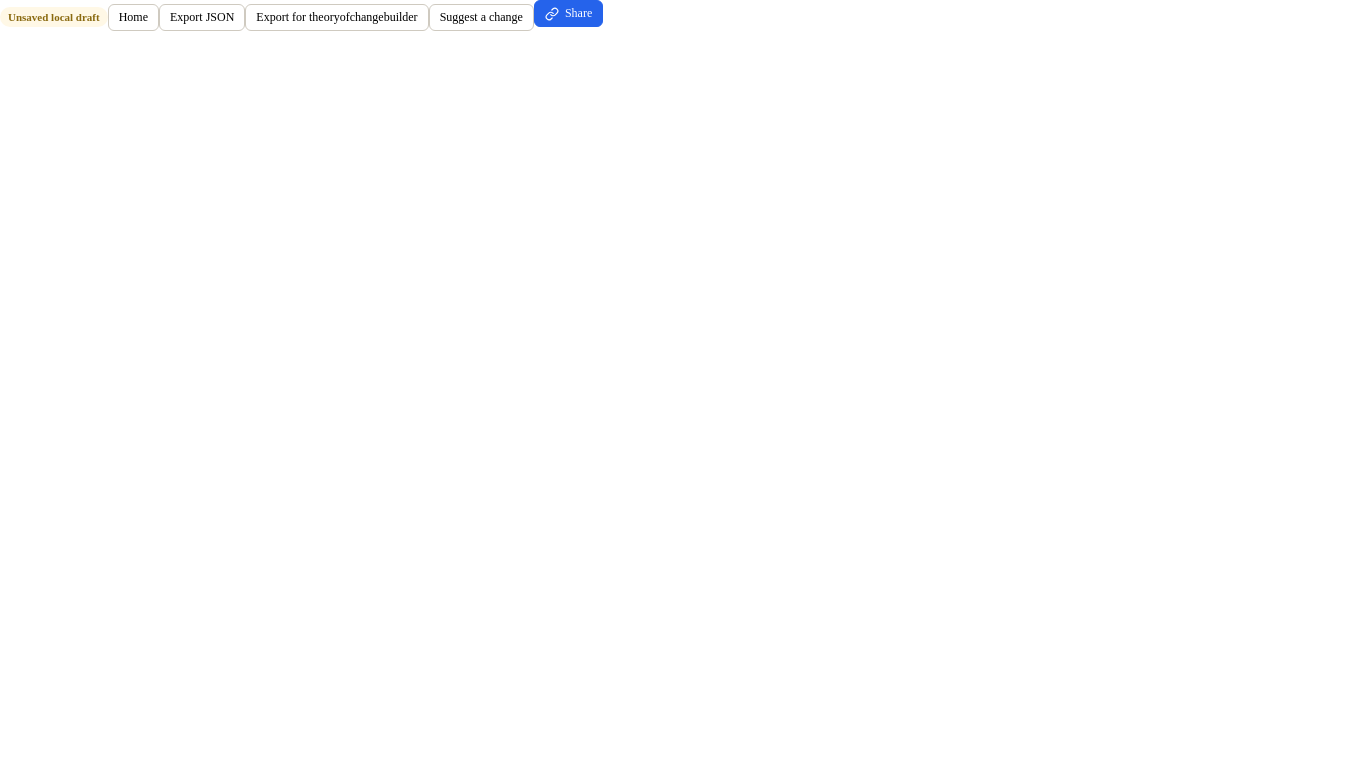
it: the Suggest a change dialog › lists the changes in plain words and needs a name and a reason
This screenshot has width=1366, height=768.
Click the button "Suggest a change".
click(481, 17)  # box [429,4,534,30]
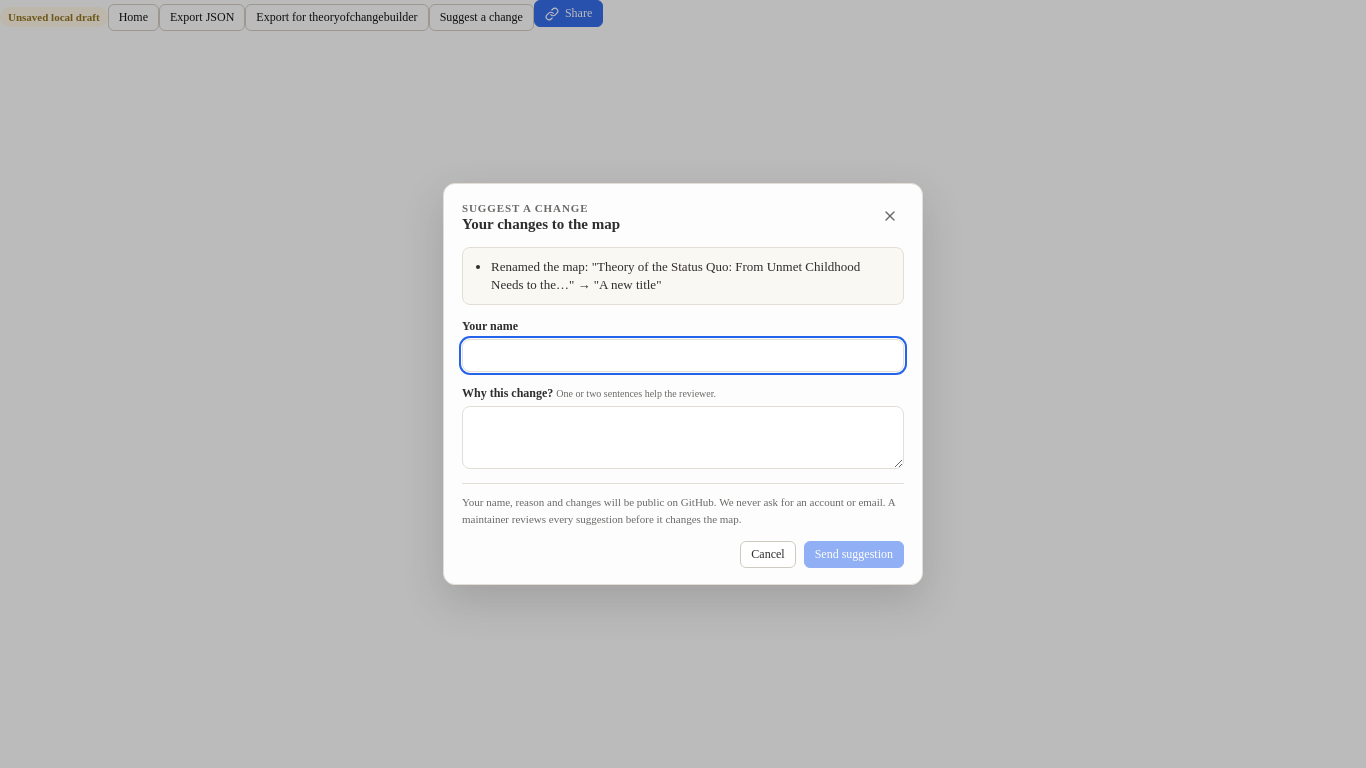
Result: the list named "What you changed" shows "A new title" at [491,259,860,292]
Result: the button "Send suggestion" is disabled at [804,541,904,568]
Type "Dana" into the field labelled "Your name".
click(683, 356); type("Dana")  # box [462,339,904,372]
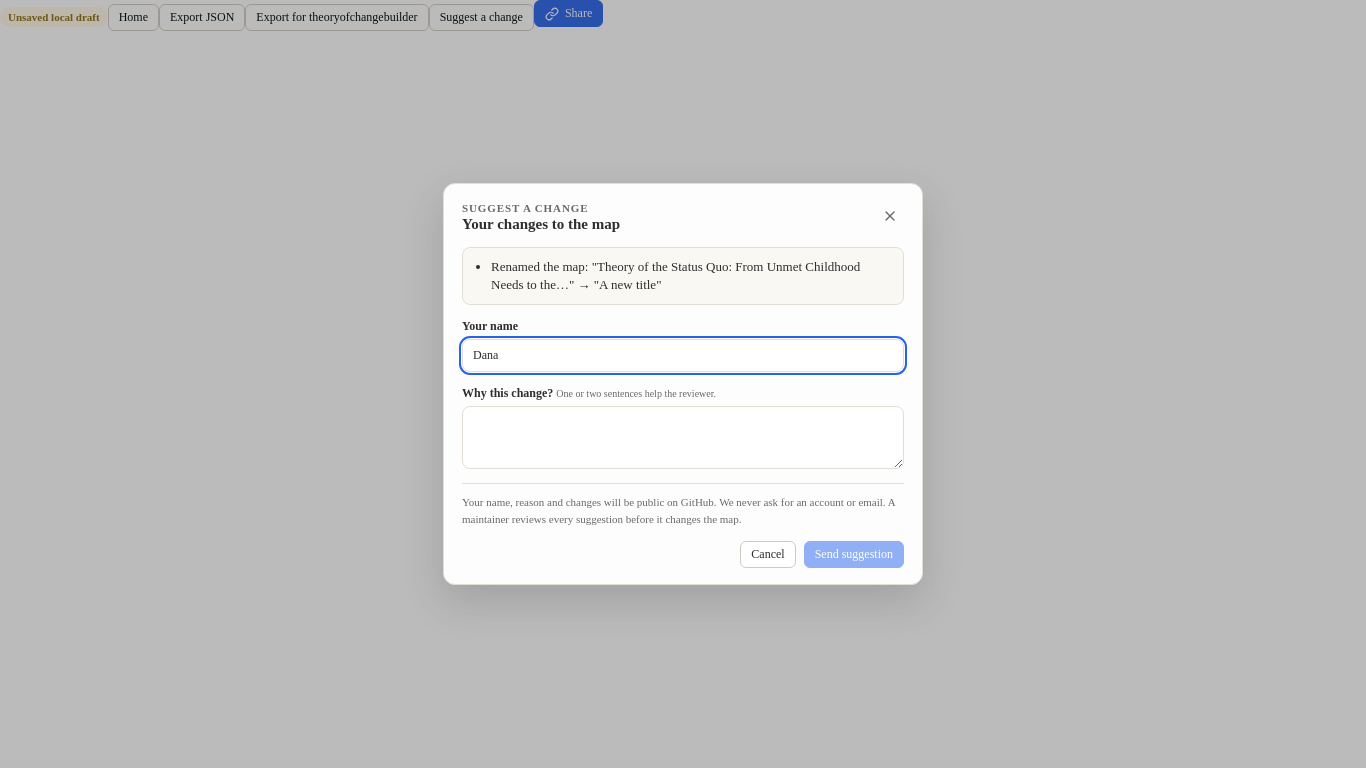
Result: the button "Send suggestion" is disabled at [804,541,904,568]
Type "Because" into the text box labelled "Why this change? One or two sentences help the reviewer.".
click(683, 438); type("Because")  # box [462,406,904,469]
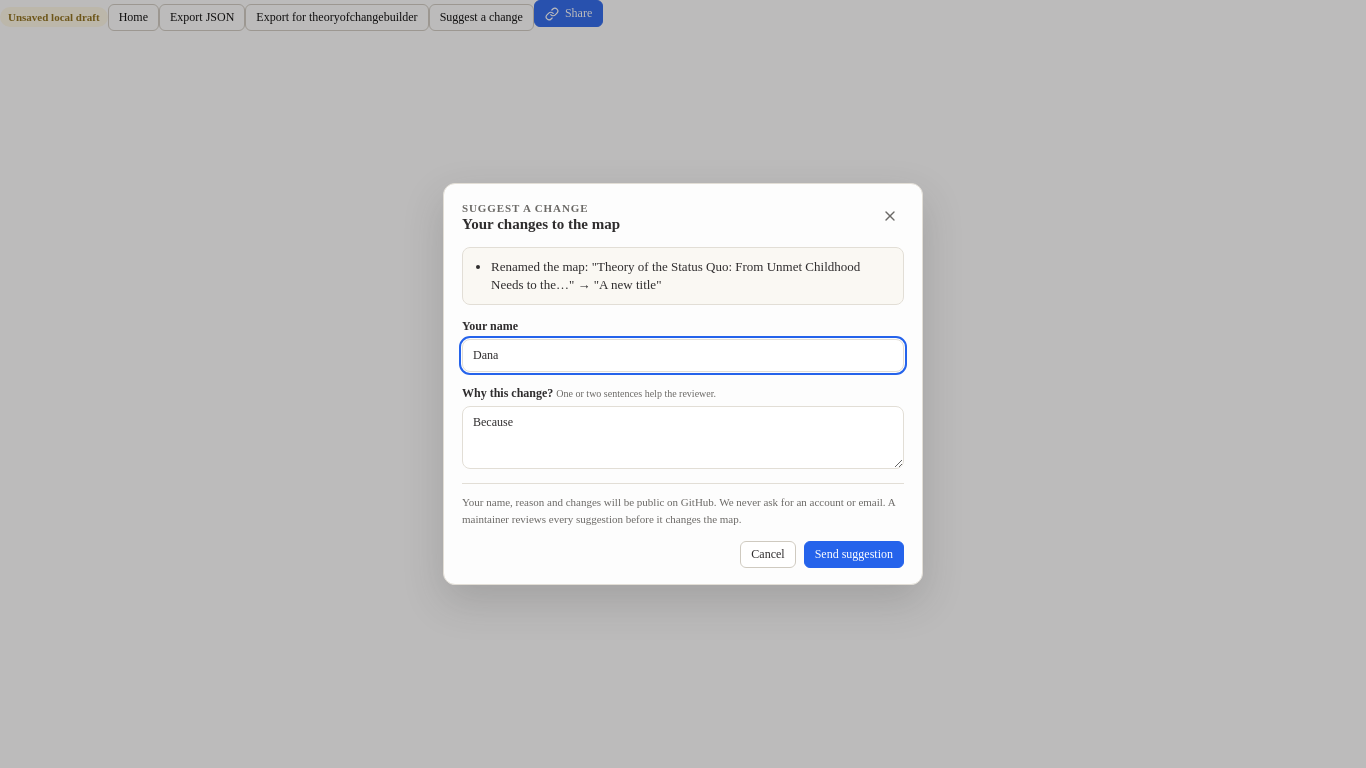
Result: the dialog shows "will be public on GitHub" at [462,496,896,525]
Result: the button "Send suggestion" is enabled at [804,541,904,568]
